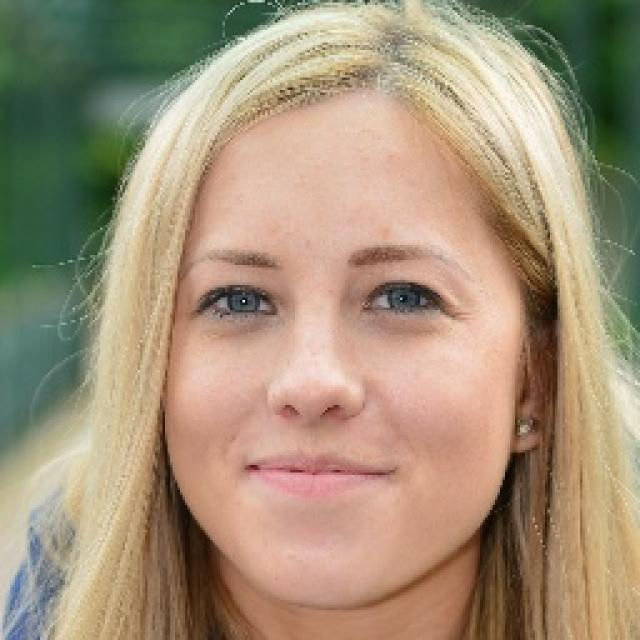earlobe: (509, 326, 560, 455)
